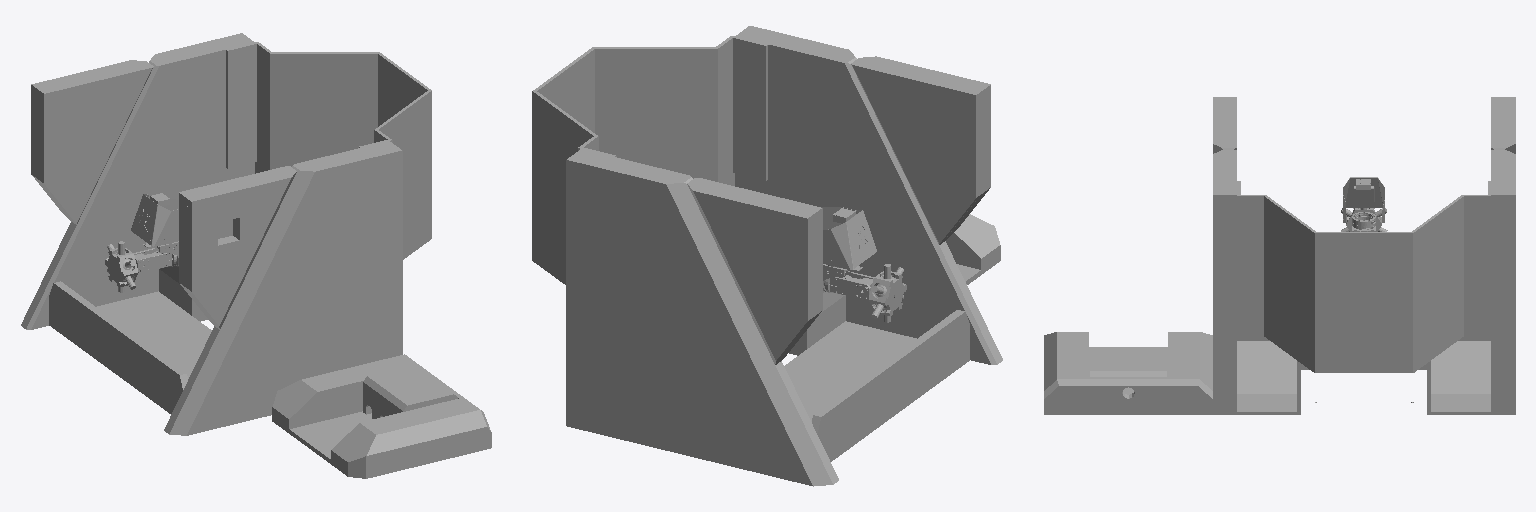
The robot description file, URDF, robot "ore_frame":
<?xml version="1.0" encoding="utf-8"?>
<!-- 取矿框架: 六边形体 + 6根棒子 (Φ38×75mm, 60°间隔, Φ450外径)
     SW-URDF 导出, 整体为固定体 (graspable=false)
     STL 单位: 米, 原点: SolidWorks 全局坐标系 -->
<robot name="ore_frame">
  <link name="base_link">
    <inertial>
      <origin xyz="0.78995 -0.57191 -0.19862" rpy="-1.5707963267948966 0 3.1415926535428"/>
      <mass value="1.0482"/>
      <inertia ixx="0.22695" ixy="7.2106E-05" ixz="-0.013505"
               iyy="0.30004" iyz="7.8999E-05" izz="0.19485"/>
    </inertial>
    <visual>
      <origin xyz="0 0 0" rpy="-1.5707963267948966 0 3.1415926535428"/>
      <geometry>
        <mesh filename="package://arv_v1_model/meshes/obstacles/ore_frame.STL"/>
      </geometry>
      <material name="light_gray">
        <color rgba="0.7 0.7 0.7 1"/>
      </material>
    </visual>
    <collision>
      <origin xyz="0 0 0" rpy="-1.5707963267948966 0 3.1415926535428"/>
      <geometry>
        <mesh filename="package://arv_v1_model/meshes/obstacles/ore_frame.STL"/>
      </geometry>
    </collision>
  </link>
</robot>

--- What the picture shows (computed from the rendered views, not written in the file) ---
Views: 3 orthographic renders of the robot side by side, from view 1: azimuth 30°, elevation 25°; view 2: azimuth 150°, elevation 25°; view 3: azimuth 270°, elevation 25°.
Robot: ore_frame — 1 links, 0 joints (none); root link base_link; default pose: all joints at 0.
Links seen in each view (by area): view 1: base_link; view 2: base_link; view 3: base_link.
Link boxes in pixels (x1,y1,x2,y2): base_link: [21, 33, 491, 478]; base_link: [532, 26, 1002, 486]; base_link: [1044, 97, 1515, 414].
Bounding box of the posed robot: 2.14 × 2.97 × 1.53 m (x, y, z).
Meshes: 1 distinct files referenced, 1 mesh visuals loaded (1 binary STL).
